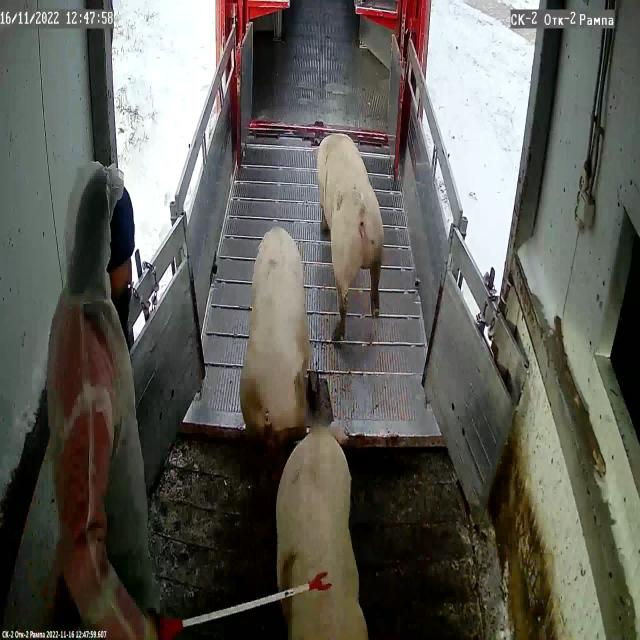pig: (276, 427, 368, 640), (240, 228, 310, 434), (317, 135, 384, 335)
